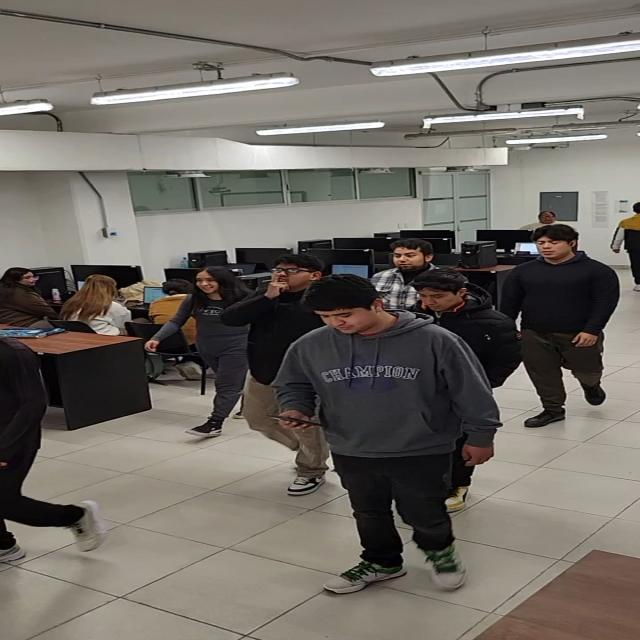Persona: (265, 273, 503, 595), (215, 253, 332, 497), (494, 223, 621, 428), (0, 332, 107, 563), (145, 266, 254, 439), (397, 268, 525, 389), (362, 237, 473, 314)
